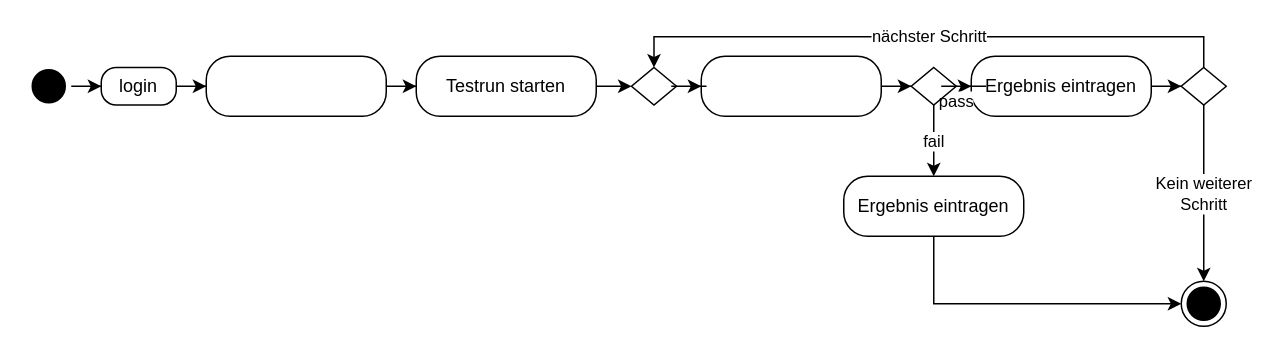
Some shapes in this 1278 by 353 pixel diagram are drawn without their labels. Each missing label, with the box of its shape:
Schritt ausführen: (700, 55, 881, 116)
Testrun auswählen: (205, 55, 386, 116)
